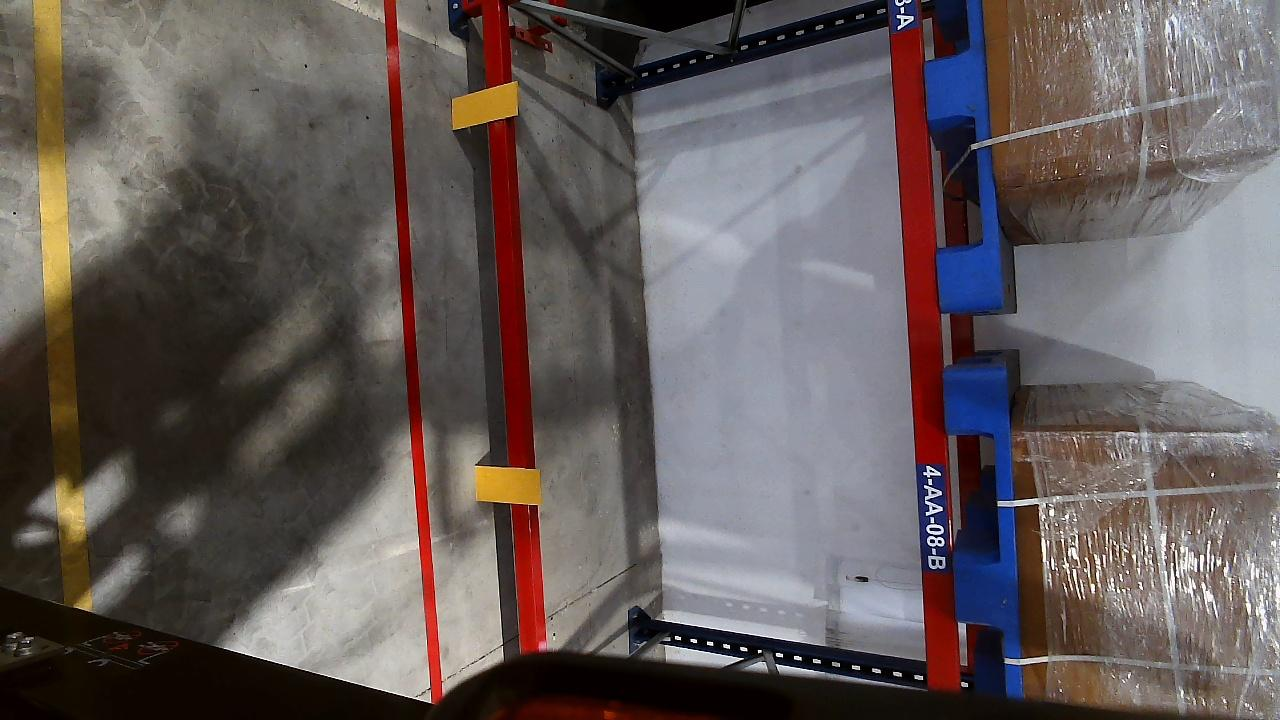h_rack: (884, 0, 954, 683), (481, 3, 536, 660)
orange_strip: (451, 82, 520, 128), (474, 466, 540, 505)
red_line: (371, 2, 453, 690)
small_pallet: (915, 0, 1008, 305), (942, 378, 1028, 692)
yellow_line: (28, 0, 87, 607)
